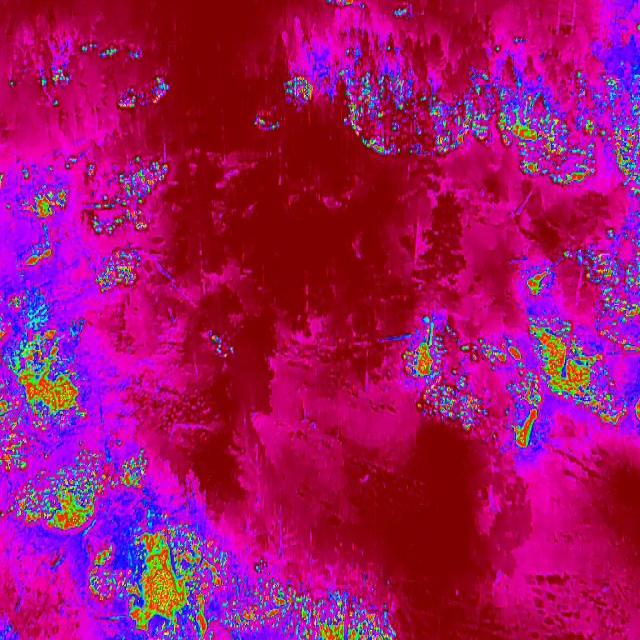fire: (0, 302, 150, 542), (0, 156, 183, 300), (328, 47, 494, 165), (222, 550, 399, 640), (7, 36, 170, 118), (528, 316, 630, 444), (121, 519, 222, 640), (499, 74, 606, 188), (587, 241, 640, 354), (417, 372, 492, 438), (605, 70, 640, 204), (508, 371, 546, 454), (453, 334, 528, 374), (84, 542, 126, 606), (524, 253, 556, 307), (406, 332, 438, 382), (284, 74, 314, 108), (254, 112, 282, 134), (206, 330, 226, 350), (632, 391, 640, 429), (326, 0, 361, 8), (637, 24, 640, 34)
